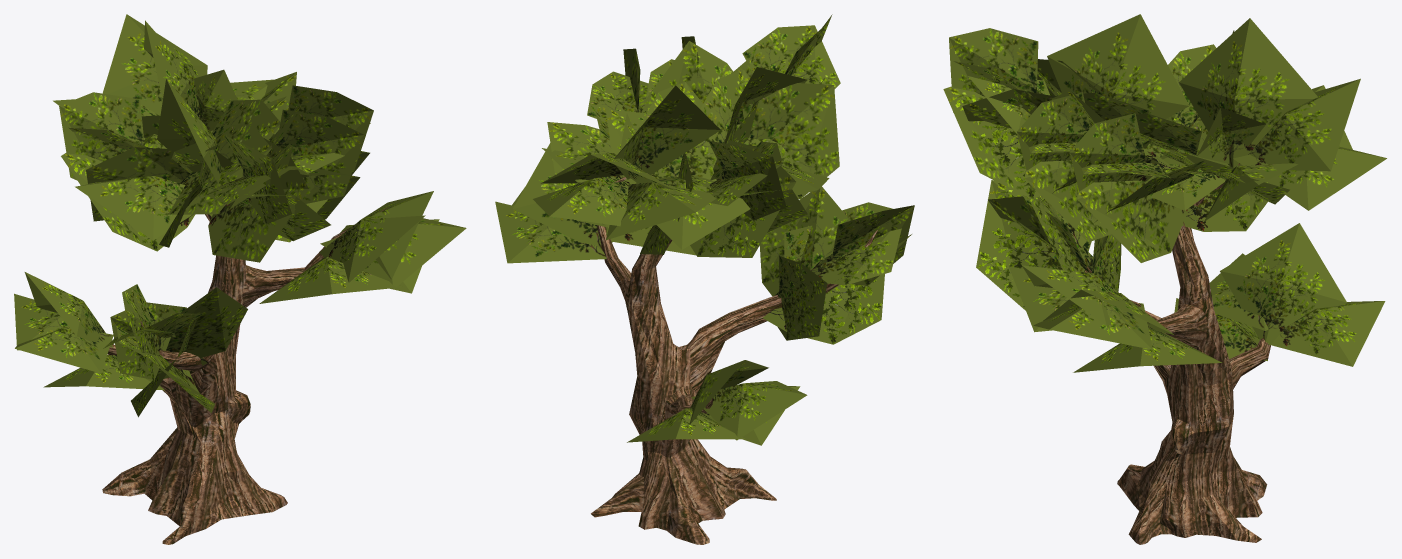
File: Fantasy_tree1.dae
3 views of the same model, side by side, from view 1: azimuth 30°, elevation 25°; view 2: azimuth 150°, elevation 25°; view 3: azimuth 270°, elevation 25° (orthographic). The views are drawn at different scales.
Parts seen in each view (by area): view 1: Mesh_Object; view 2: Mesh_Object; view 3: Mesh_Object.
Part boxes in pixels (<box>): Mesh_Object: <box>14,14,466,544</box>; Mesh_Object: <box>495,14,914,544</box>; Mesh_Object: <box>943,14,1386,544</box>.
Bounding box in the file's own units: 3.52 × 4.2 × 3.49.
